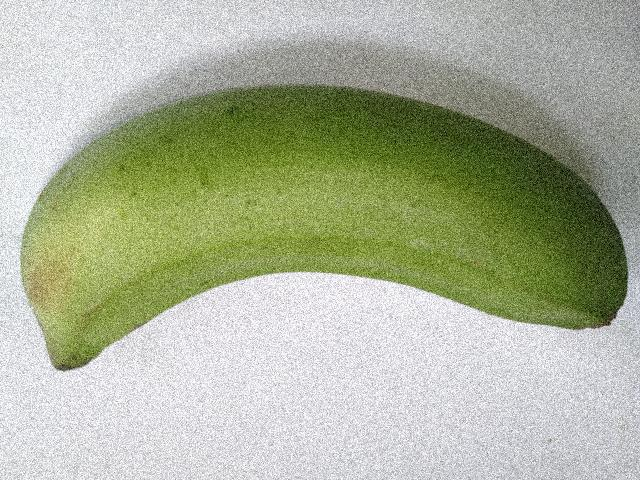freshunripe: (10, 65, 639, 391)
